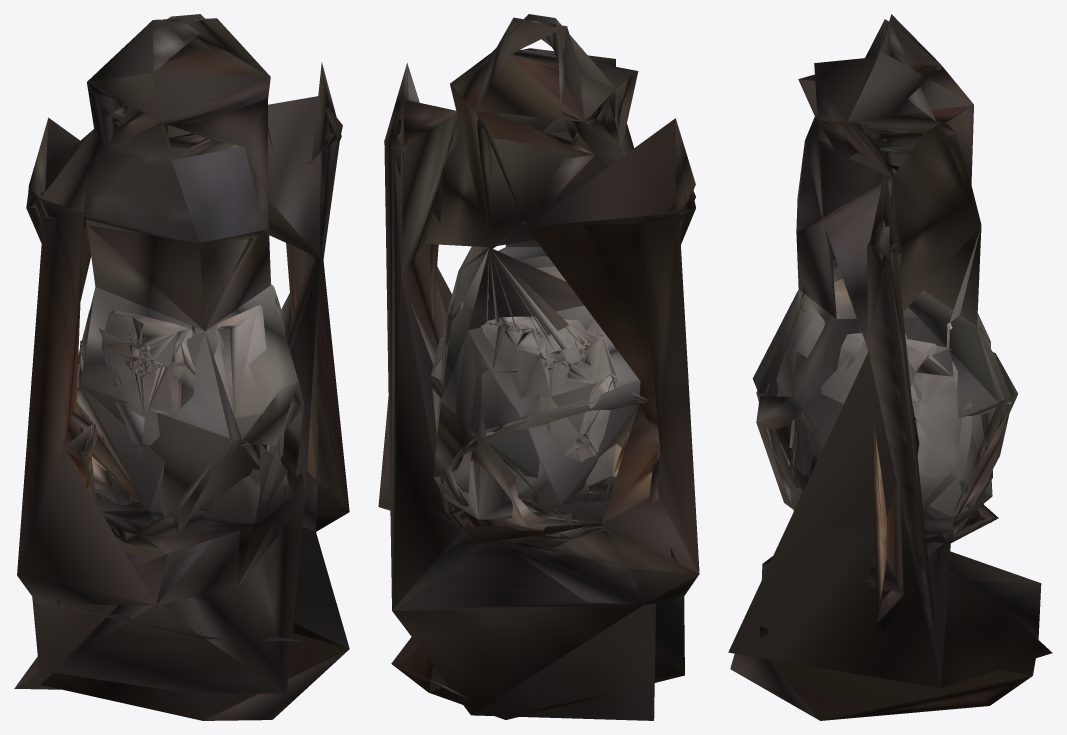
File: prop_lantern_01.glb
3 renders of one model, left to right at view 1: azimuth 30°, elevation 25°; view 2: azimuth 150°, elevation 25°; view 3: azimuth 270°, elevation 25°, orthographic.
Parts seen in each view (by area): view 1: geometry_0; view 2: geometry_0; view 3: geometry_0.
Part boxes in pixels (x1,y1,x2,y2): geometry_0: (14, 14, 349, 720); geometry_0: (378, 14, 699, 720); geometry_0: (728, 14, 1052, 720).
Size of the model in its own units: 0.5037 by 0.9668 by 0.4379.
1 material, 1 textured.
